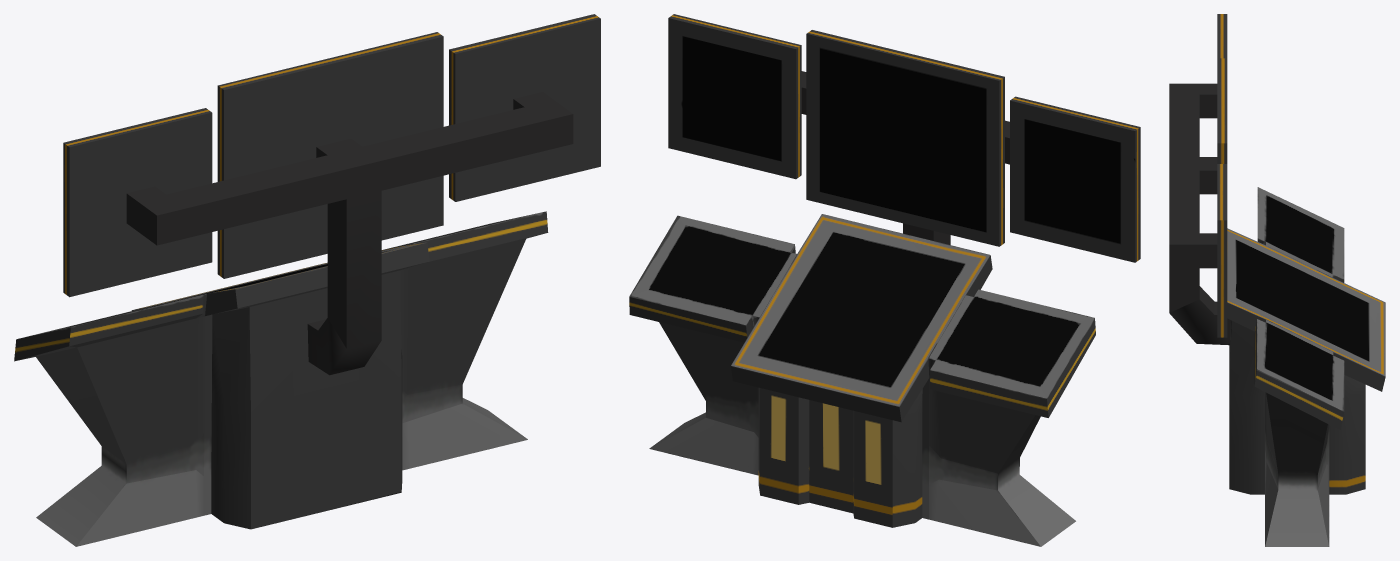
The model's file is geo_monitors.fbx.
3 views of the same model, side by side, from view 1: azimuth 30°, elevation 25°; view 2: azimuth 150°, elevation 25°; view 3: azimuth 270°, elevation 25° (orthographic). The views are drawn at different scales.
Visible parts, largest first — view 1: monitors; view 2: monitors; view 3: monitors.
Part boxes in pixels (left/top/right/bottom): monitors: left=14, top=14, right=600, bottom=546; monitors: left=629, top=14, right=1140, bottom=546; monitors: left=1169, top=14, right=1385, bottom=546.
Size of the model in its own units: 282 by 230 by 126.
